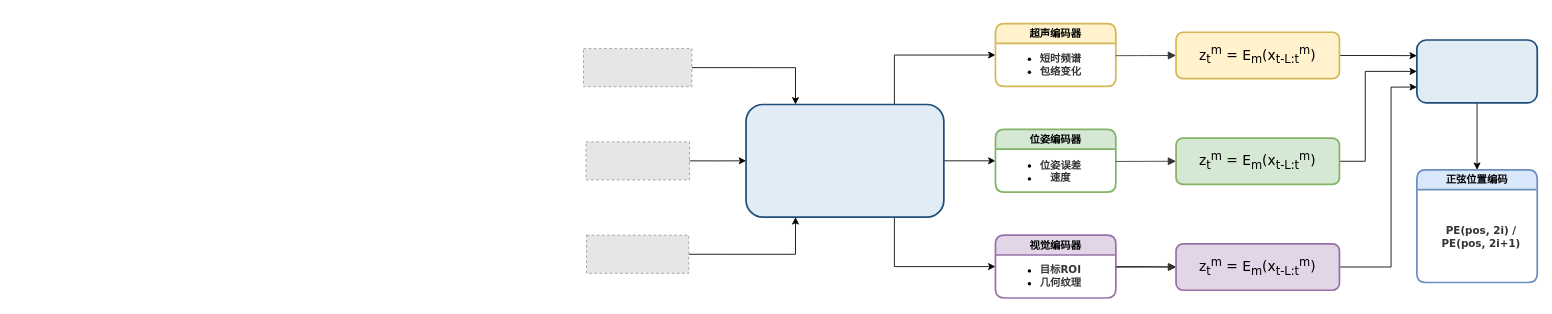
Image size: 1552x314. Some labels were removed from this diagram. Grey dashed boxes stand in for pictures. Each missing label, with the centre of its shape:
"统一时间基准 局部时间窗口内加权插值对齐 x t m = ∑ ω t,k m x τ k m ∑ ω t,k m = 1" belongs at point 844,160.
"统一维度 隐空间表示" belongs at point 1477,71.
